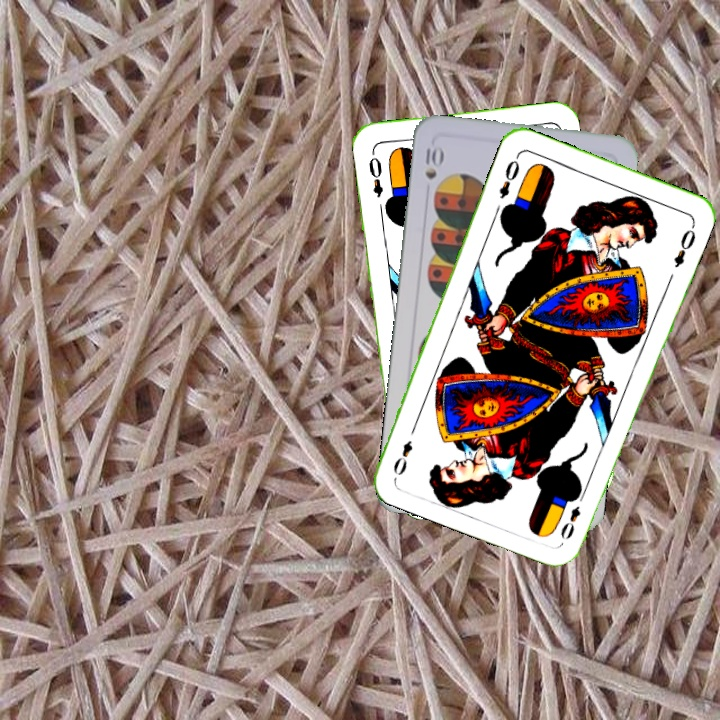EO: (556, 487, 588, 543), (495, 151, 523, 202), (364, 153, 386, 200)
S10: (421, 144, 444, 182)
